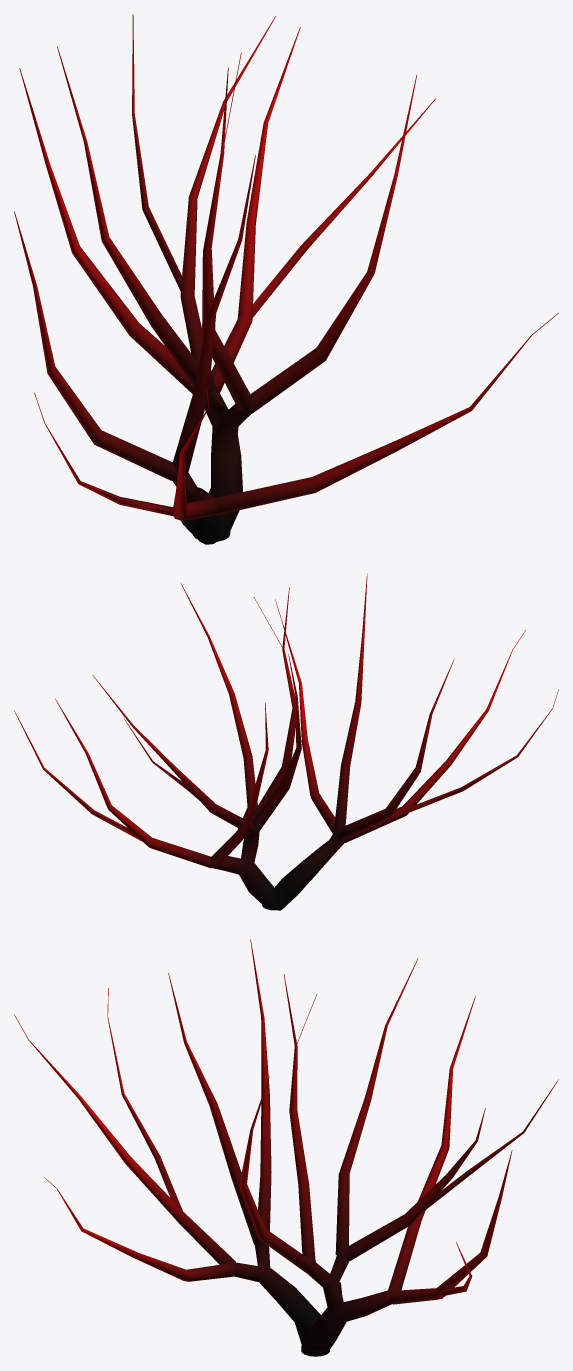
Rendered from Bush_NoLeaf.fbx.
3 views of the same model, one above another, from view 1: azimuth 30°, elevation 25°; view 2: azimuth 150°, elevation 25°; view 3: azimuth 270°, elevation 25° (orthographic). The views are drawn at different scales.
Visible parts, largest first — view 1: Bush__1__LOD0; view 2: Bush__1__LOD0; view 3: Bush__1__LOD0.
Boxes of the visible parts, x1,y1,x2,y2 form: Bush__1__LOD0: (14, 14, 558, 544); Bush__1__LOD0: (14, 573, 558, 910); Bush__1__LOD0: (14, 939, 558, 1356).
Size of the model in its own units: 190 by 142 by 185.
